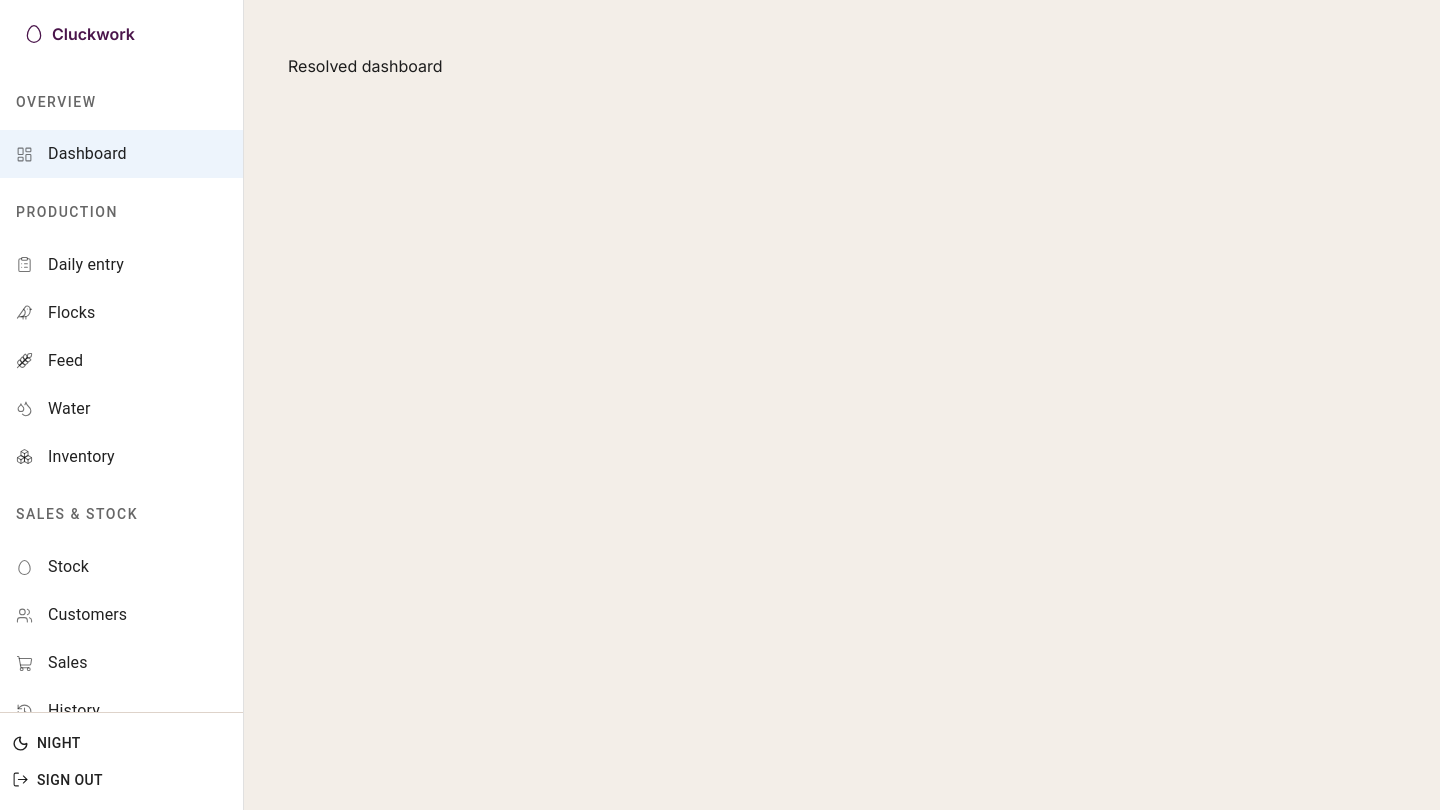
Test: AppLayout lazy route containment (#595) › contains a rejected route module in the screen boundary while the shell survives
Click the link "Stock": (52, 567) [16, 557, 89, 576]
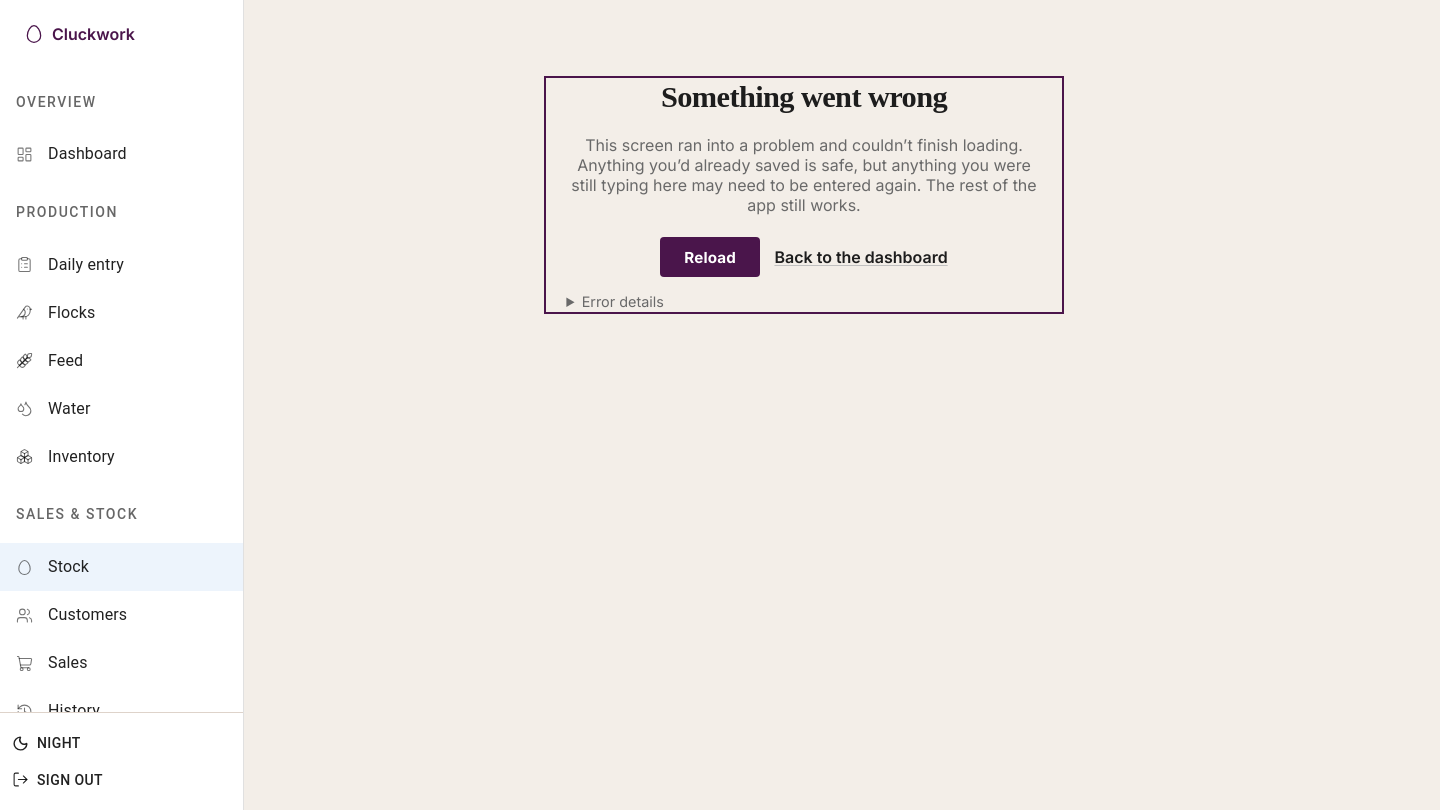
Expected: the link "Dashboard" is shown, [16, 144, 127, 163]
Expected: the message shows "Something went wrong", [661, 80, 947, 114]
